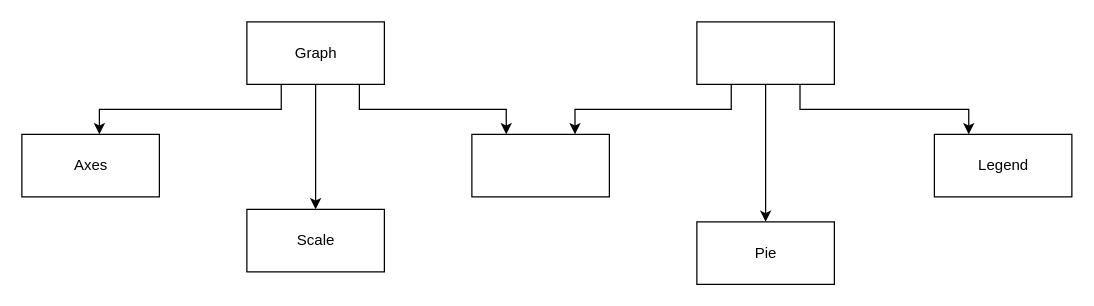
Some shapes in this 1094 by 306 pixel diagram are drawn without their labels. The centre of each missing label's shape, as x and y in pixels:
Input parser: point 540,165
PieChart: point 765,52
